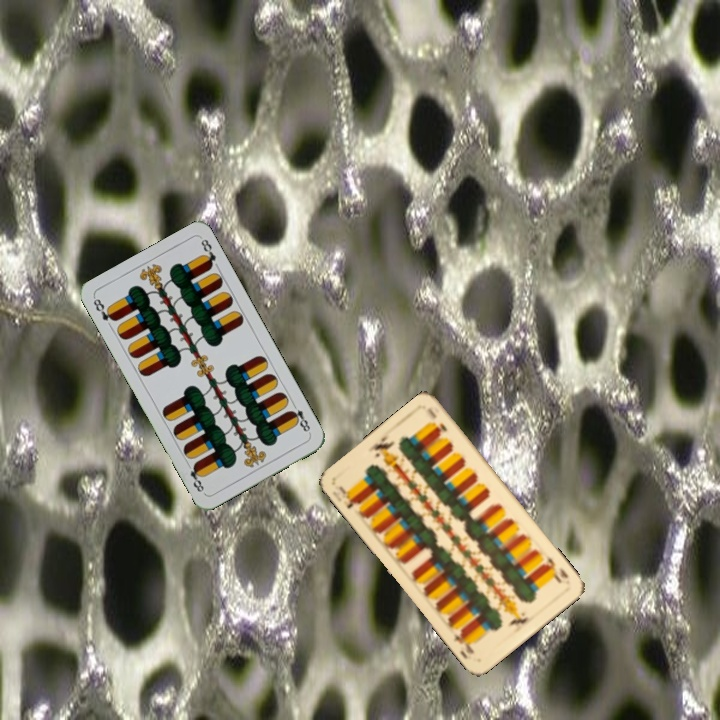E10: (540, 552, 571, 585), (335, 482, 362, 511)
E8: (286, 399, 313, 437), (89, 294, 118, 324)
